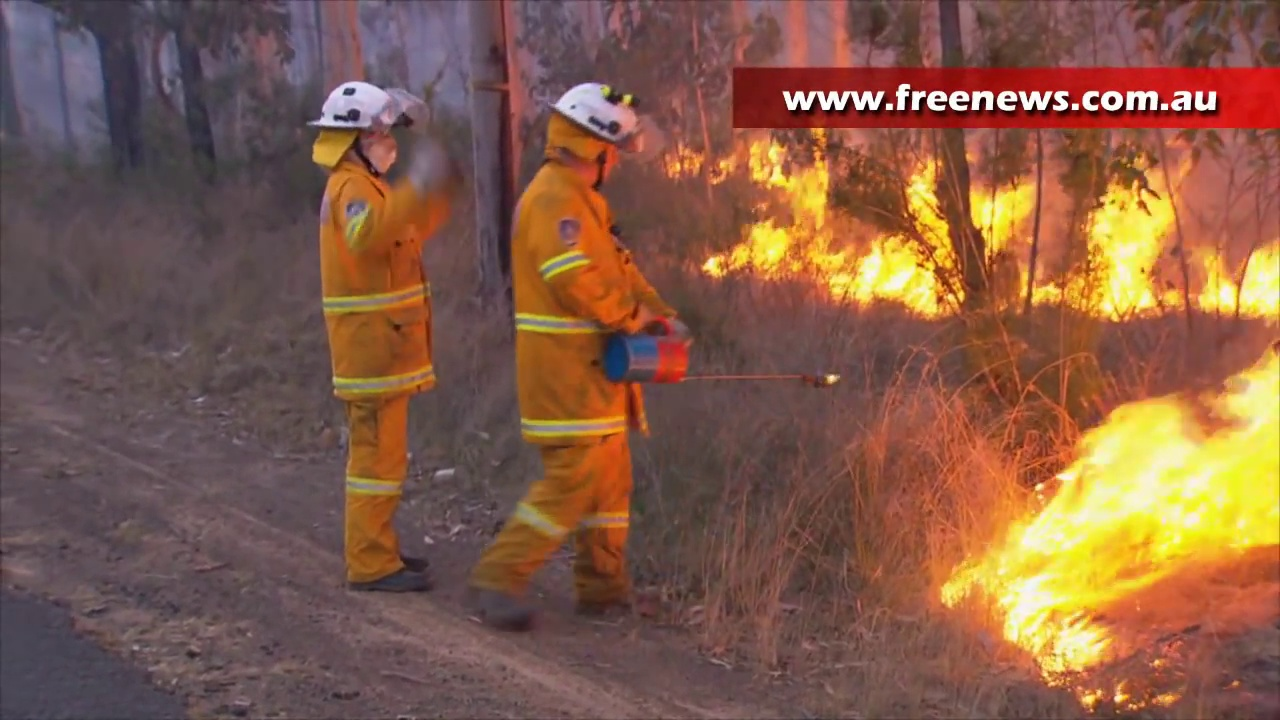fire: (951, 353, 1280, 668), (702, 139, 829, 281), (1069, 158, 1178, 316), (861, 235, 953, 311), (1198, 245, 1280, 316), (976, 186, 1029, 241), (907, 163, 942, 229)
